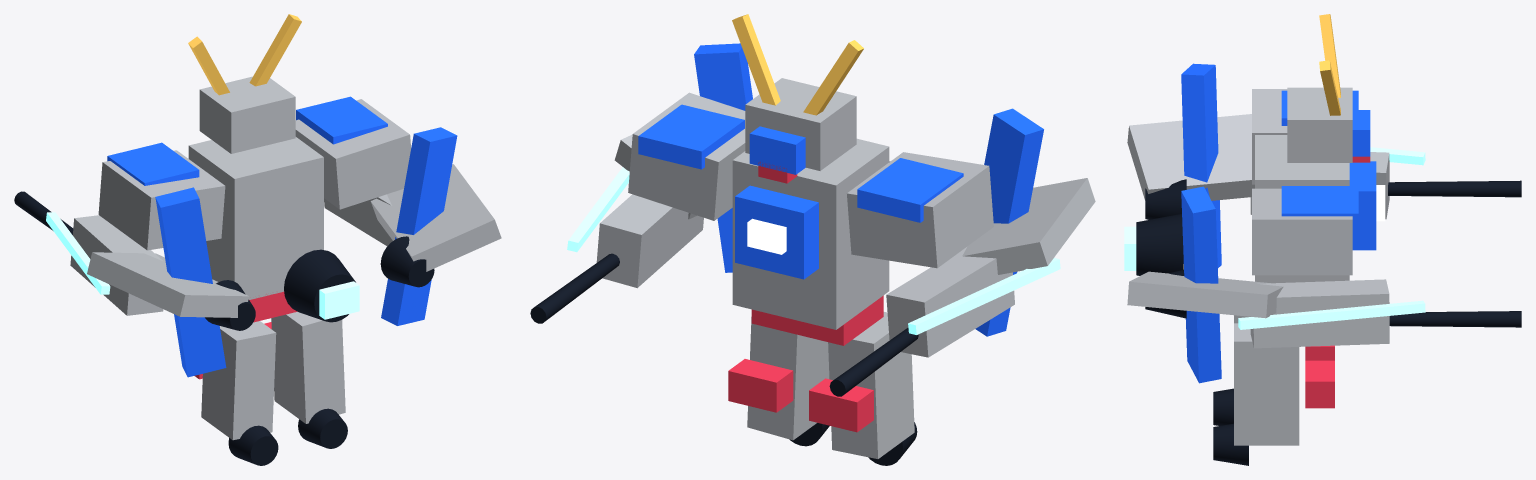
File: sparrow-gundam.glb
3 renders of one model, left to right at view 1: azimuth 30°, elevation 25°; view 2: azimuth 150°, elevation 25°; view 3: azimuth 270°, elevation 25°, orthographic. The views are drawn at different scales.
Visible parts, largest first — view 1: mecha flight torso, leg thruster block 1, leg thruster block -1, block shoulder pauldron 1, wing binder -1, wing binder 1, block shoulder pauldron -1, helmet crown, white wing flare 1, white wing flare -1, forearm cannon housing -1, central backpack bell (+13 smaller); view 2: mecha flight torso, block shoulder pauldron -1, forearm cannon housing -1, block shoulder pauldron 1, leg thruster block -1, white wing flare -1, forearm cannon housing 1, helmet crown, blue reactor chest, wing binder -1, leg thruster block 1, blue shoulder inset 1 (+13 smaller); view 3: block shoulder pauldron 1, leg thruster block 1, white wing flare -1, forearm cannon housing 1, wing binder 1, white wing flare 1, helmet crown, wing binder -1, mecha flight torso, central backpack bell, blue shoulder inset 1, cyan saber glow 1 (+15 smaller).
Boxes of the visible parts, left/top/right/bottom form: mecha flight torso: left=188, top=137, right=323, bottom=299; leg thruster block 1: left=271, top=311, right=345, bottom=423; leg thruster block -1: left=201, top=321, right=276, bottom=440; block shoulder pauldron 1: left=295, top=99, right=411, bottom=209; wing binder -1: left=155, top=187, right=226, bottom=377; wing binder 1: left=381, top=127, right=457, bottom=325; block shoulder pauldron -1: left=98, top=150, right=225, bottom=250; helmet crown: left=199, top=76, right=295, bottom=153; white wing flare 1: left=370, top=164, right=501, bottom=271; white wing flare -1: left=87, top=252, right=249, bottom=317; forearm cannon housing -1: left=70, top=215, right=163, bottom=315; central backpack bell: left=284, top=249, right=355, bottom=322; mecha flight torso: left=732, top=138, right=889, bottom=329; block shoulder pauldron -1: left=847, top=152, right=993, bottom=268; forearm cannon housing -1: left=886, top=247, right=1014, bottom=357; block shoulder pauldron 1: left=628, top=92, right=745, bottom=220; leg thruster block -1: left=828, top=312, right=914, bottom=458; white wing flare -1: left=962, top=178, right=1095, bottom=274; forearm cannon housing 1: left=596, top=194, right=703, bottom=288; helmet crown: left=745, top=78, right=856, bottom=170; blue reactor chest: left=735, top=185, right=818, bottom=279; wing binder -1: left=975, top=108, right=1043, bottom=336; leg thruster block 1: left=747, top=317, right=829, bottom=440; blue shoulder inset 1: left=638, top=104, right=744, bottom=169; block shoulder pauldron 1: left=1252, top=188, right=1352, bottom=275; leg thruster block 1: left=1234, top=323, right=1299, bottom=445; white wing flare -1: left=1127, top=114, right=1254, bottom=200; forearm cannon housing 1: left=1250, top=279, right=1389, bottom=348; wing binder 1: left=1181, top=186, right=1221, bottom=383; white wing flare 1: left=1127, top=271, right=1283, bottom=318; helmet crown: left=1287, top=87, right=1352, bottom=162; wing binder -1: left=1181, top=63, right=1221, bottom=267; mecha flight torso: left=1255, top=135, right=1349, bottom=283; central backpack bell: left=1136, top=213, right=1183, bottom=275; blue shoulder inset 1: left=1281, top=186, right=1358, bottom=229; cyan saber glow 1: left=1238, top=300, right=1425, bottom=329.
Bounding box in the file's own units: 66.25 × 67.07 × 58.96.
